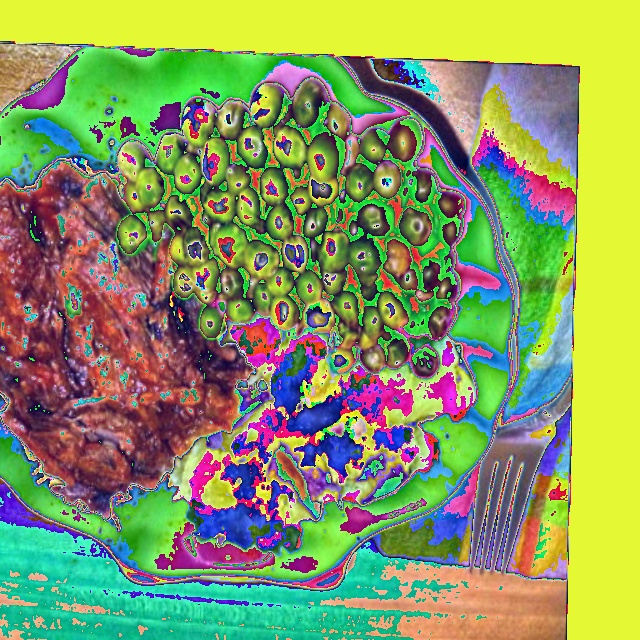background: (0, 79, 478, 559)
